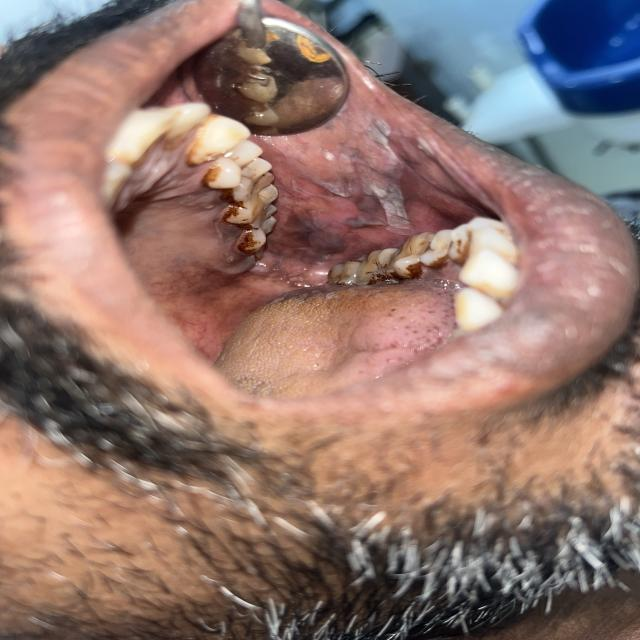leukoplakia-detection: (266, 104, 475, 258), (125, 143, 213, 235)
processing_area: (124, 105, 496, 393)
